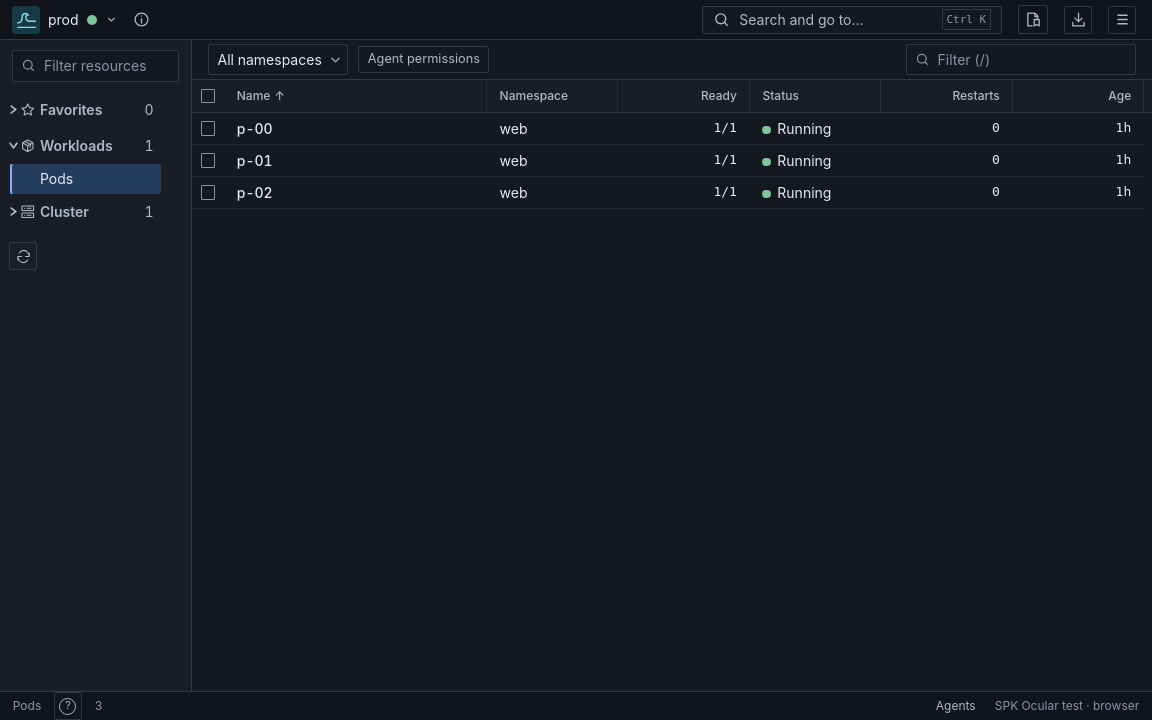
Test: keyboard › details: Alt+← and the path go back along relations; closing gives focus back to the table
Check: the text "p-00" is shown, box [237, 120, 273, 137]
Press Arrowdown Enter
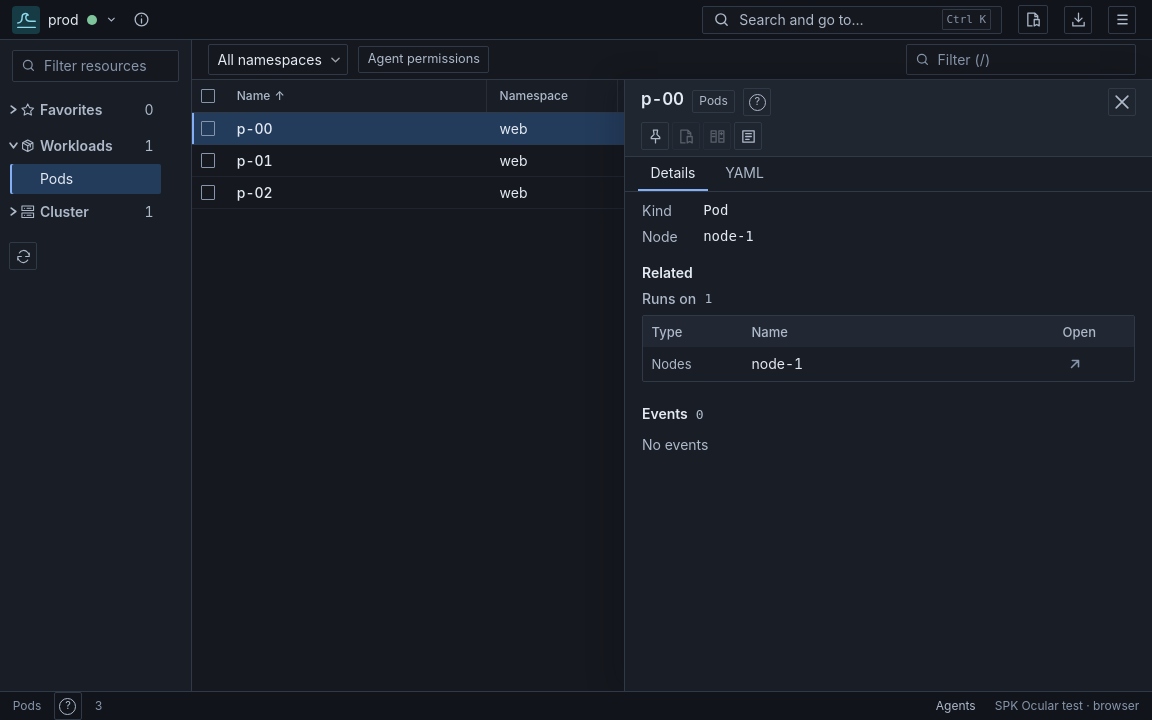
Click the button named "nodes/node-1".
click(1075, 364)  # box [1062, 352, 1088, 377]
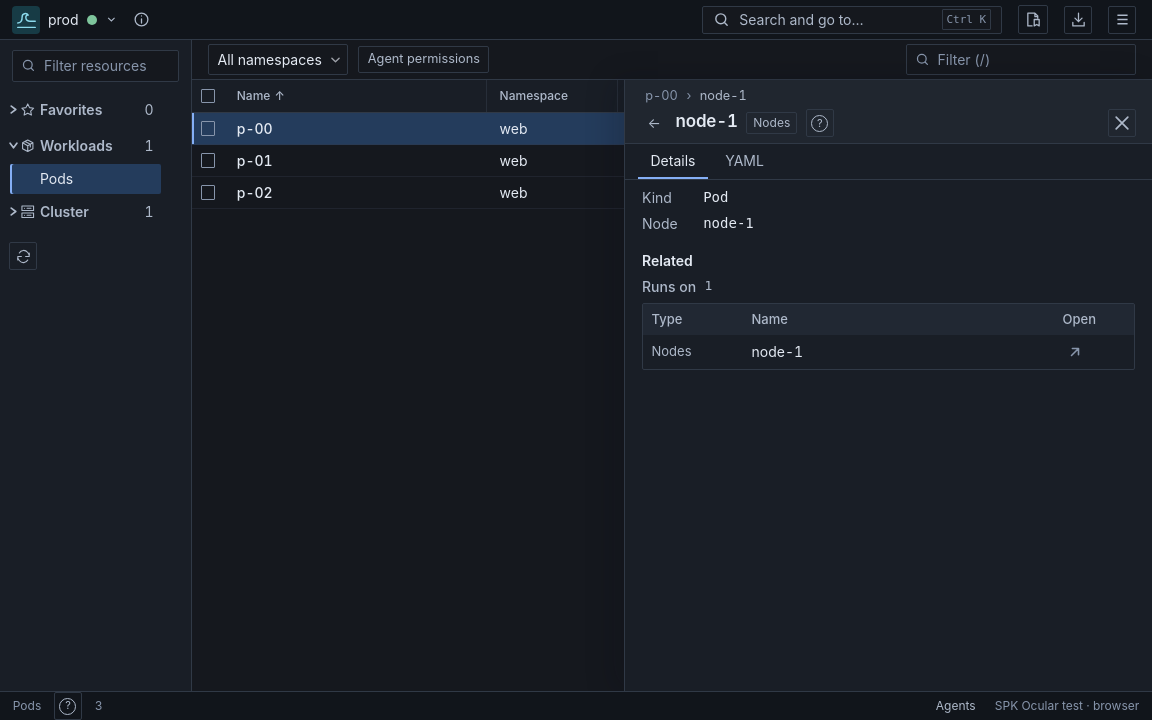
Check: the navigation bar named "Path" reads "p-00 › node-1", box [641, 88, 747, 105]
Type keys "{Alt>}{ArrowLeft}{/Alt}"
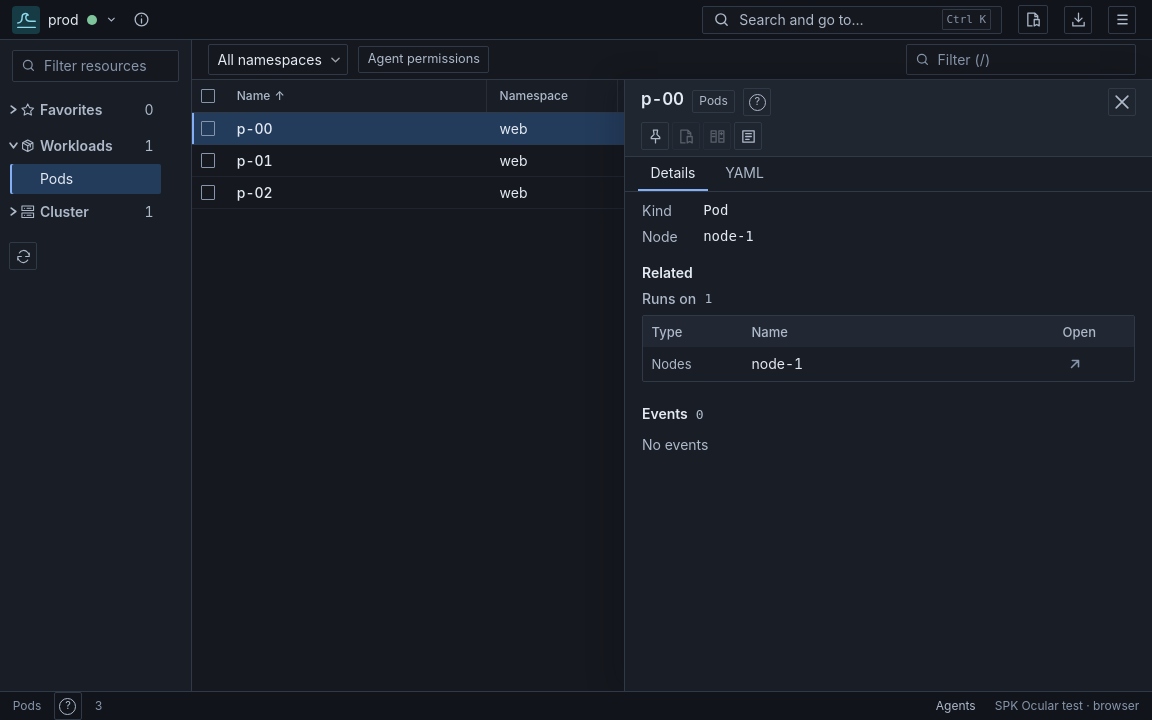
Click the button named "nodes/node-1".
click(1075, 364)  # box [1062, 352, 1088, 377]
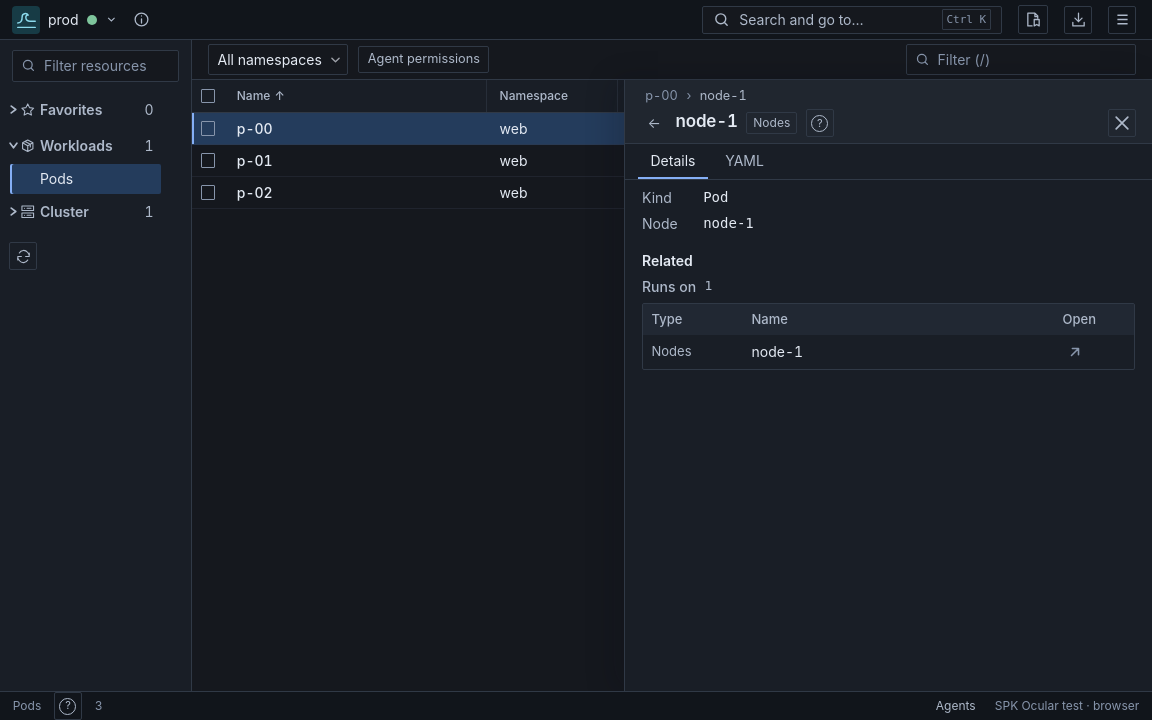
Click the button "p-00".
click(662, 96)  # box [641, 88, 682, 105]
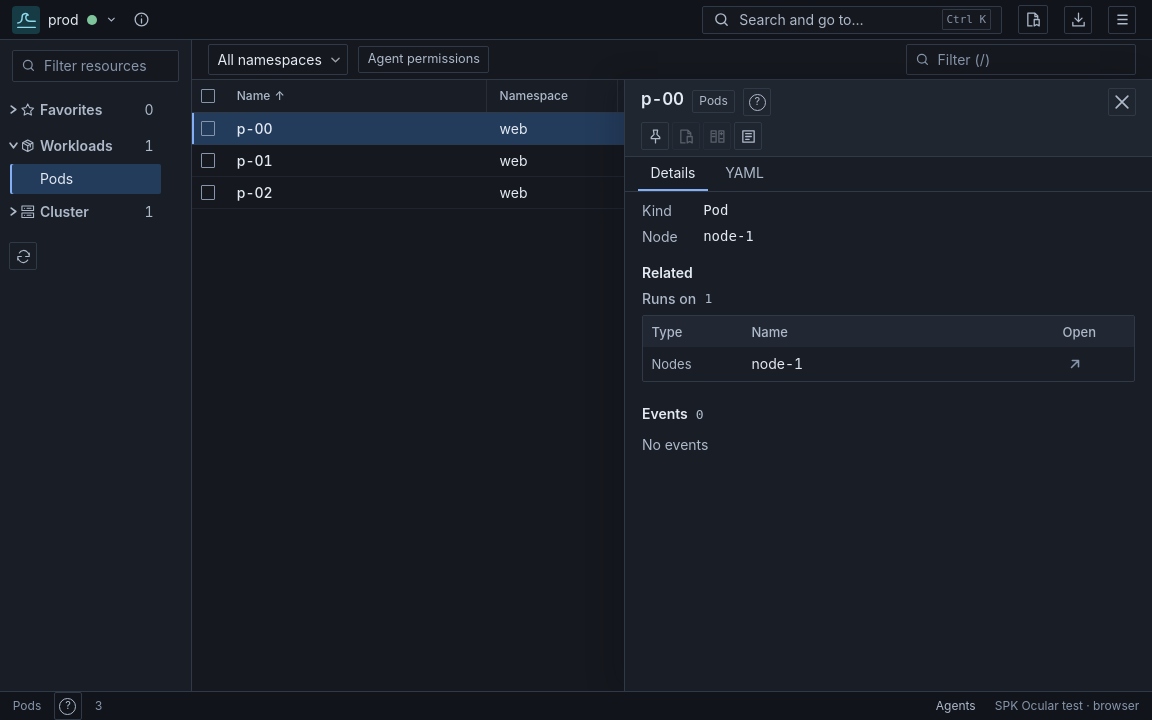
Check: the dialog named "pods p-00" is shown, box [624, 80, 1151, 691]
Press Escape
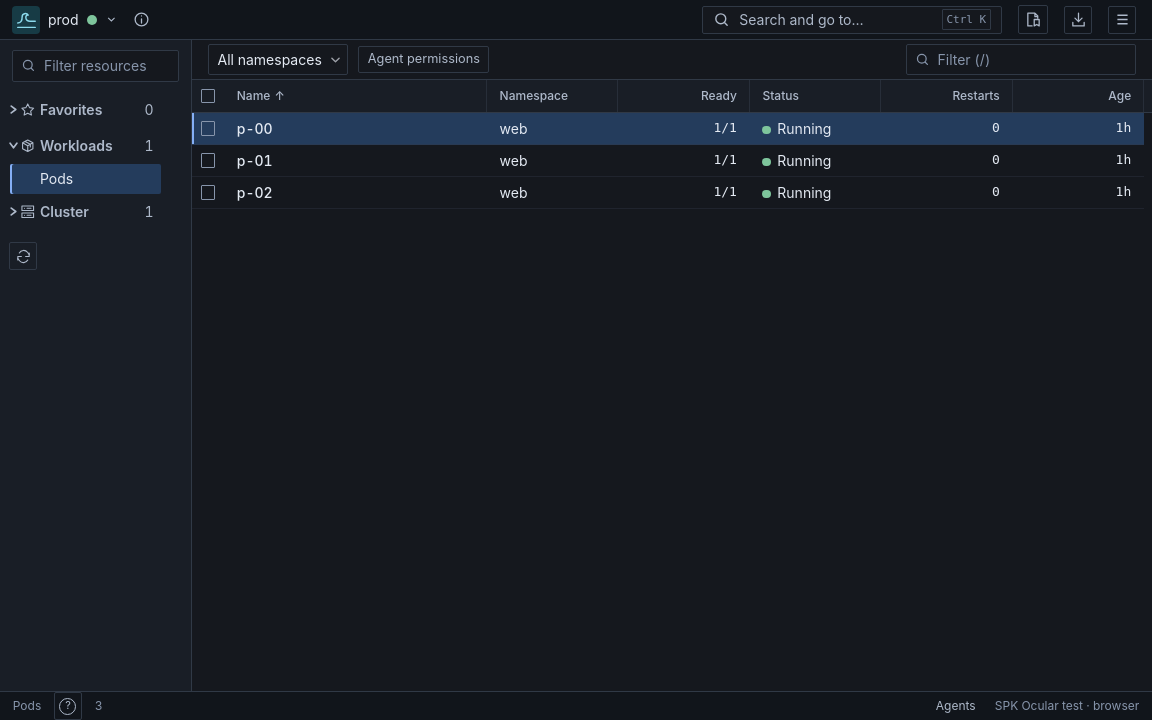
Check: the heading "pods p-00" is gone
